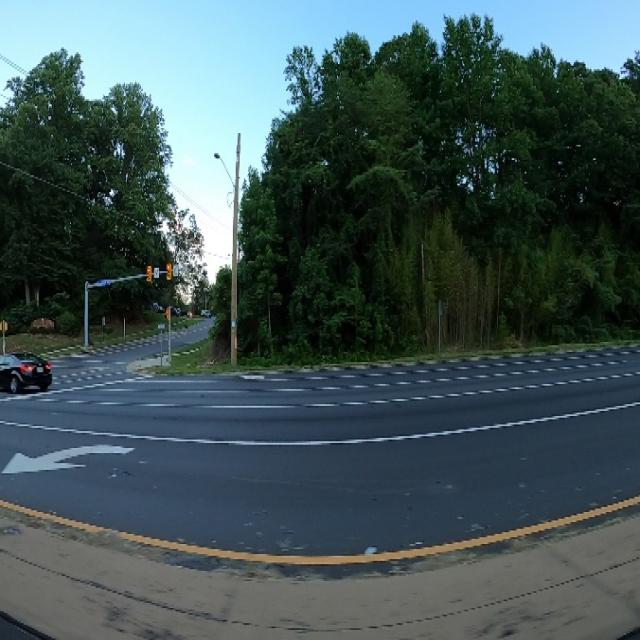car: (0, 342, 53, 394)
